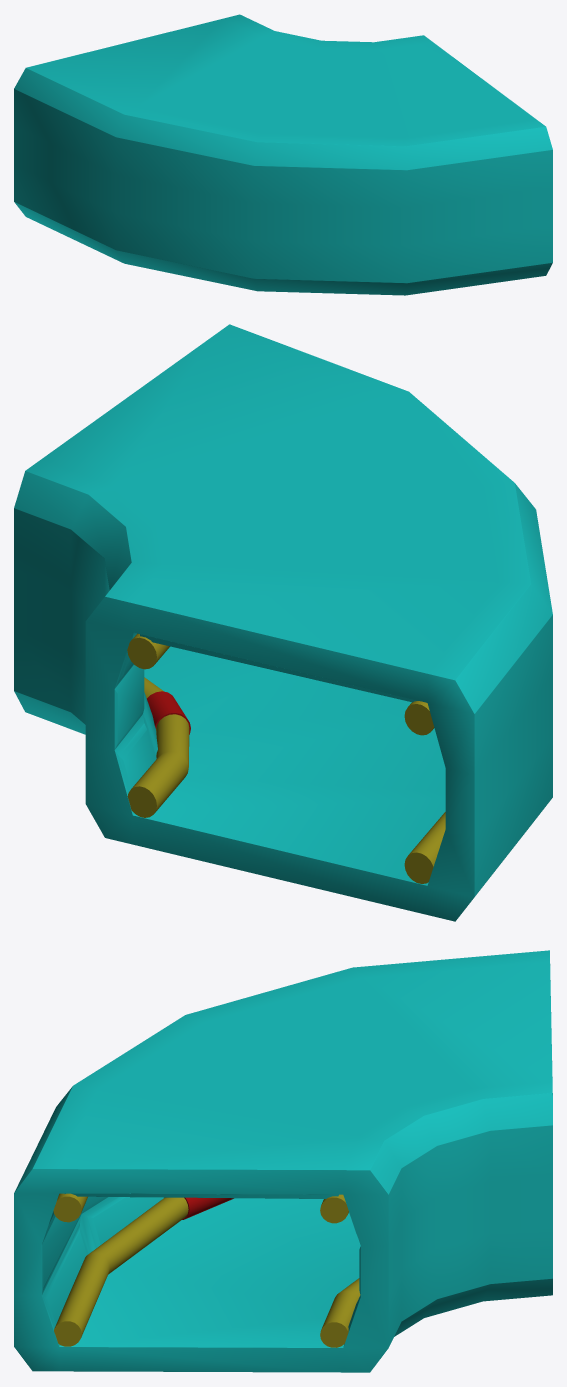
File: Tournant.fbx
3 views of the same model, one above another, from view 1: azimuth 30°, elevation 25°; view 2: azimuth 150°, elevation 25°; view 3: azimuth 270°, elevation 25° (orthographic). The views are drawn at different scales.
Parts seen in each view (by area): view 1: Box050; view 2: Box050; view 3: Box050.
Part boxes in pixels (x1=…): Box050: x1=14, y1=14, x2=552, y2=295; Box050: x1=14, y1=324, x2=552, y2=921; Box050: x1=14, y1=950, x2=552, y2=1372.
Bounding box in the file's own units: 4014 × 1663 × 4014.
